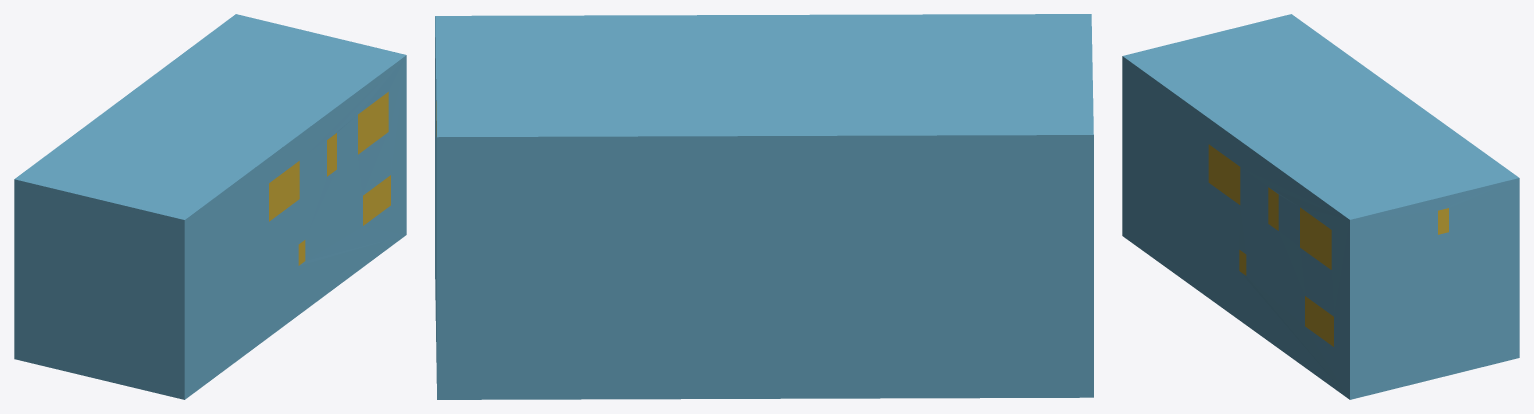
The model's file is bldg_ca2b5b06-6bd8-4313-812f-67580049c368.obj.
3 views of the same model, side by side, from view 1: azimuth 30°, elevation 25°; view 2: azimuth 150°, elevation 25°; view 3: azimuth 270°, elevation 25° (orthographic). The views are drawn at different scales.
Bounding box in the file's own units: 16.47 × 6.71 × 13.42.
